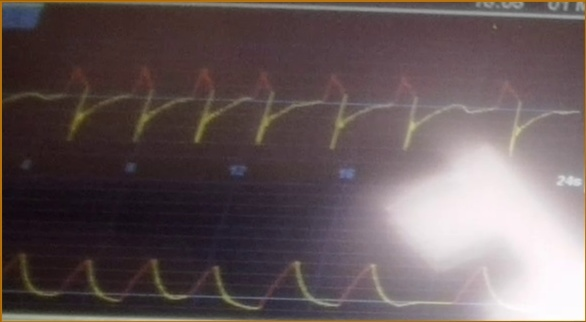Ineffective_effort Flow: (6, 54, 577, 158)
Ineffective_effort Volume: (4, 238, 524, 317)
